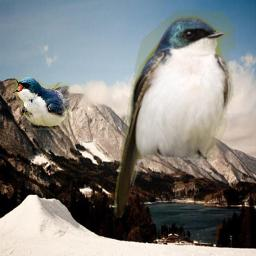Swallow: (115, 9, 235, 218), (11, 75, 70, 130)
